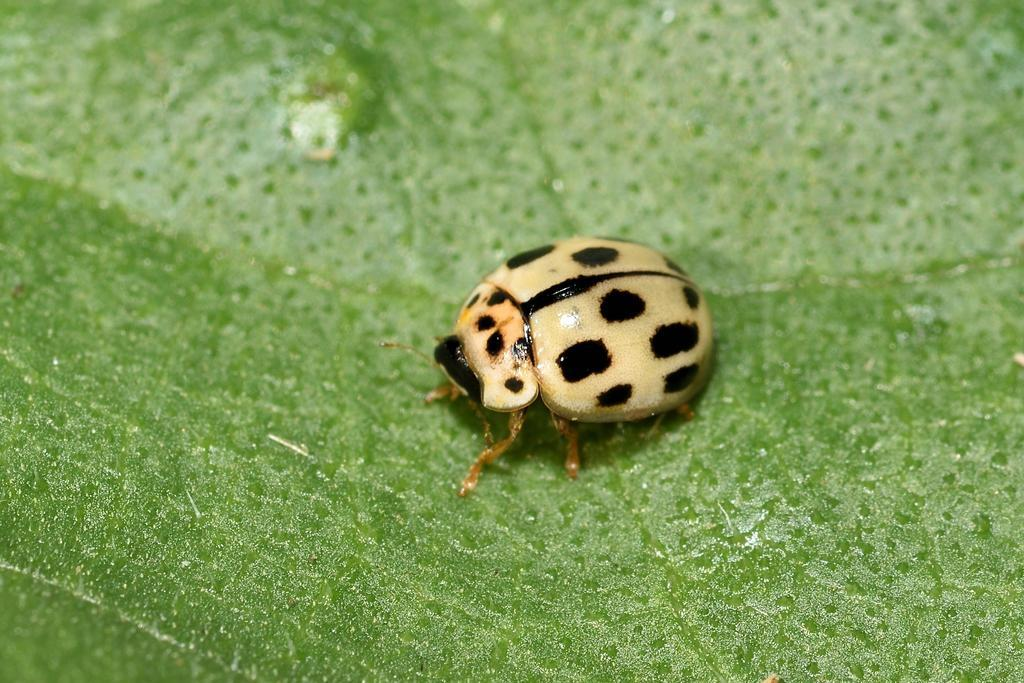ladybug: (385, 233, 723, 497)
